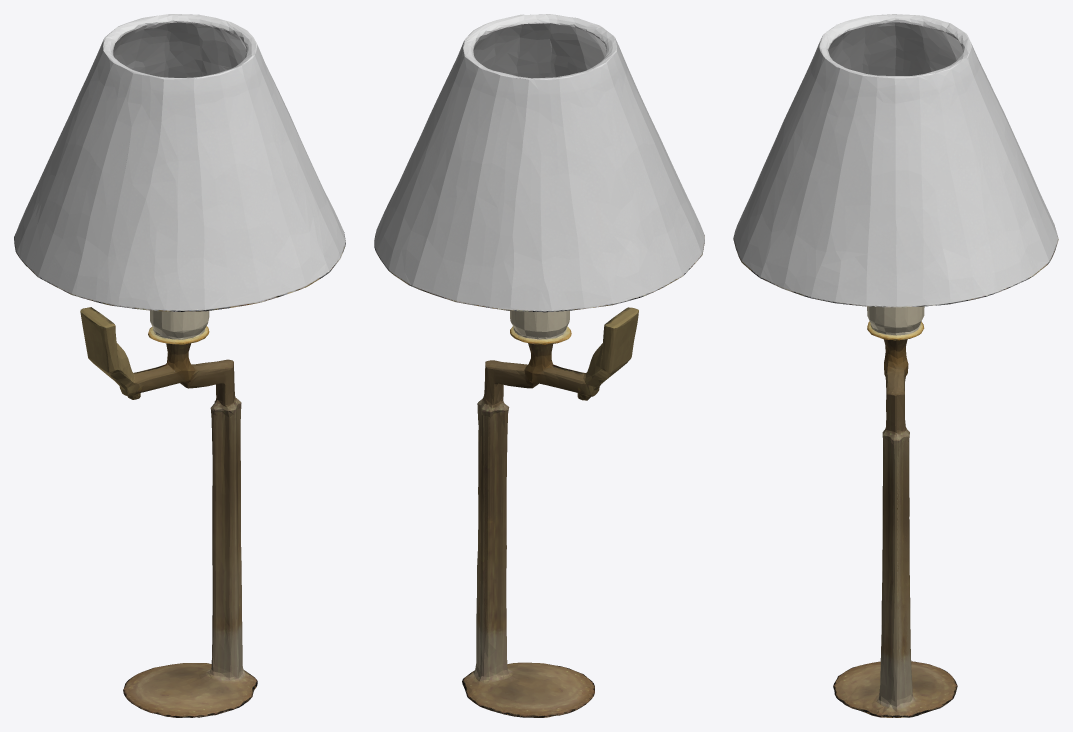
The picture shows the model from 3 angles, left to right: view 1: azimuth 30°, elevation 25°; view 2: azimuth 150°, elevation 25°; view 3: azimuth 270°, elevation 25°; orthographic projection.
Visible parts, largest first — view 1: world; view 2: world; view 3: world.
Boxes of the visible parts, left/top/right/bottom form: world: left=14, top=14, right=345, bottom=717; world: left=374, top=14, right=704, bottom=717; world: left=733, top=14, right=1058, bottom=717.
Bounding box in the file's own units: 0.4605 × 1 × 0.4618.
1 material, 1 textured.
